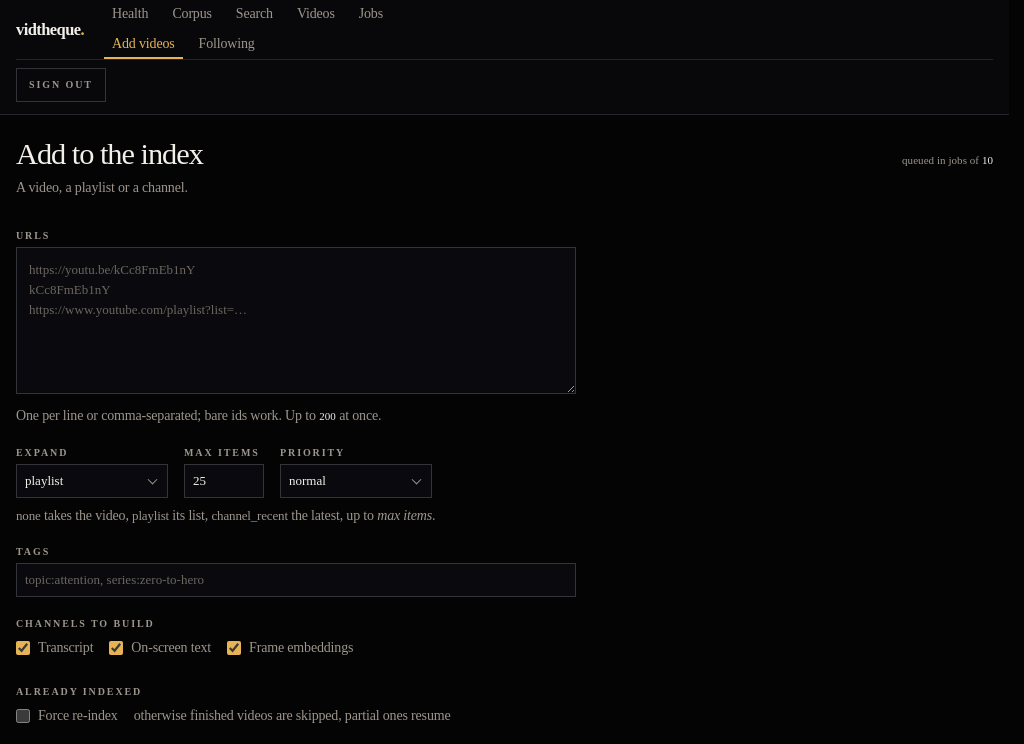
Test: the index form › the receipt › says what the split was, what was left alone, and what was refused
Type "vid00000000" into the text box labelled "URLs" at (296, 321), box [16,247,576,394]
(page scrolled)
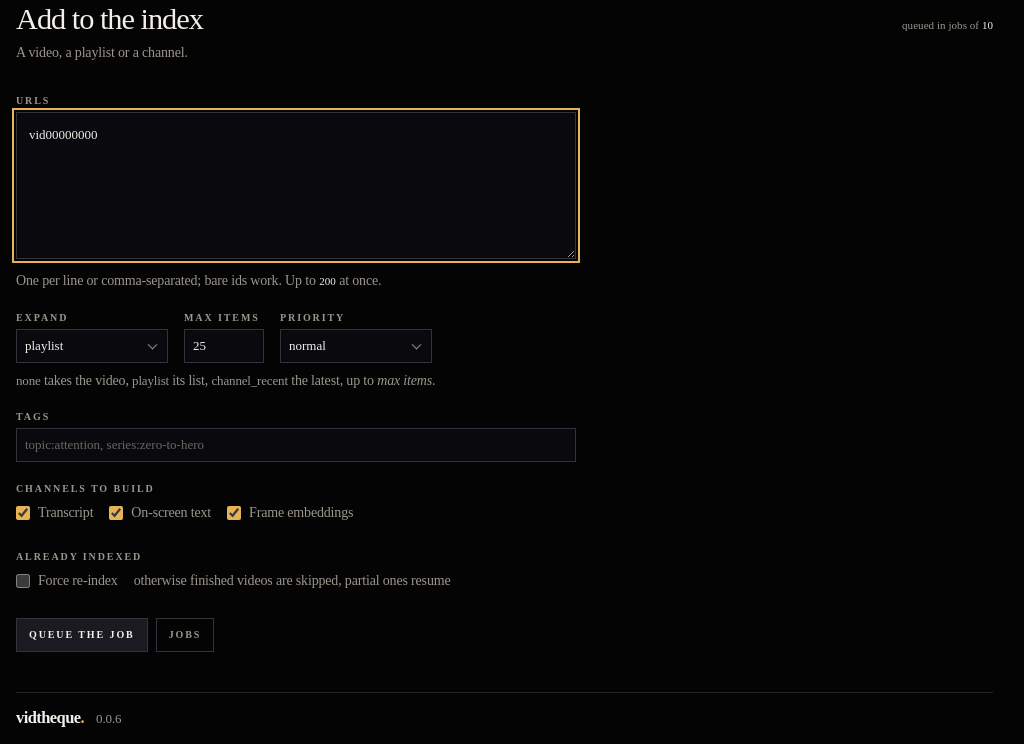
Click the button "Queue the job" at (82, 635), box [16,618,148,652]
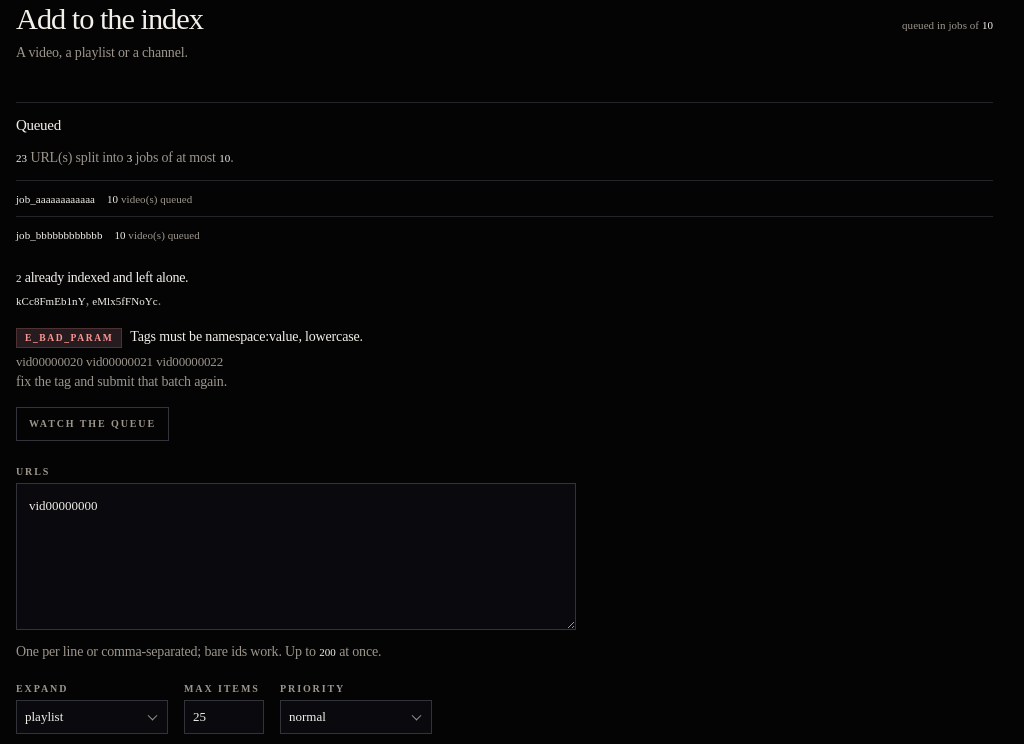
Check: the message shows "23 URL(s) split into 3 jobs of at most 10.", box [16,102,993,441]
Check: the link "job_aaaaaaaaaaaa" is shown, box [16,191,95,208]
Check: the link "job_bbbbbbbbbbbb" is shown, box [16,227,102,244]
